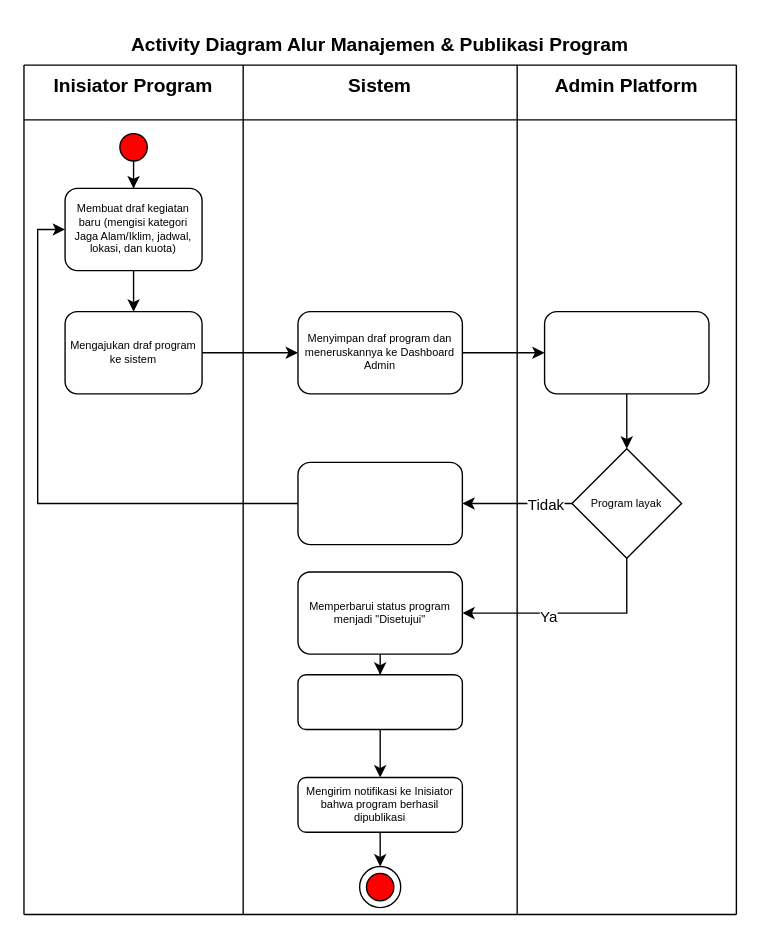
Some shapes in this 762 by 940 pixel diagram are drawn without their labels. Here are the shapes that lost their labels. From the top down, the centre of each, then its label:
pixel 626 352: Memeriksa dan mengkurasi kelayakan program aksi
pixel 379 503: Memperbarui status menjadi "Ditolak" & kirim notifikasi revisi
pixel 379 701: Menerbitkan program ke Halaman Eksplorasi
